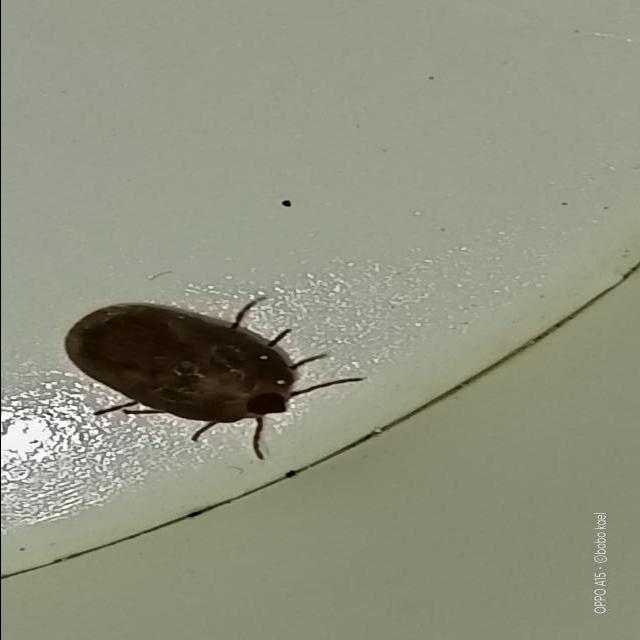Rhipicephalus Sanguineus-F-Fed: (63, 300, 367, 460)
